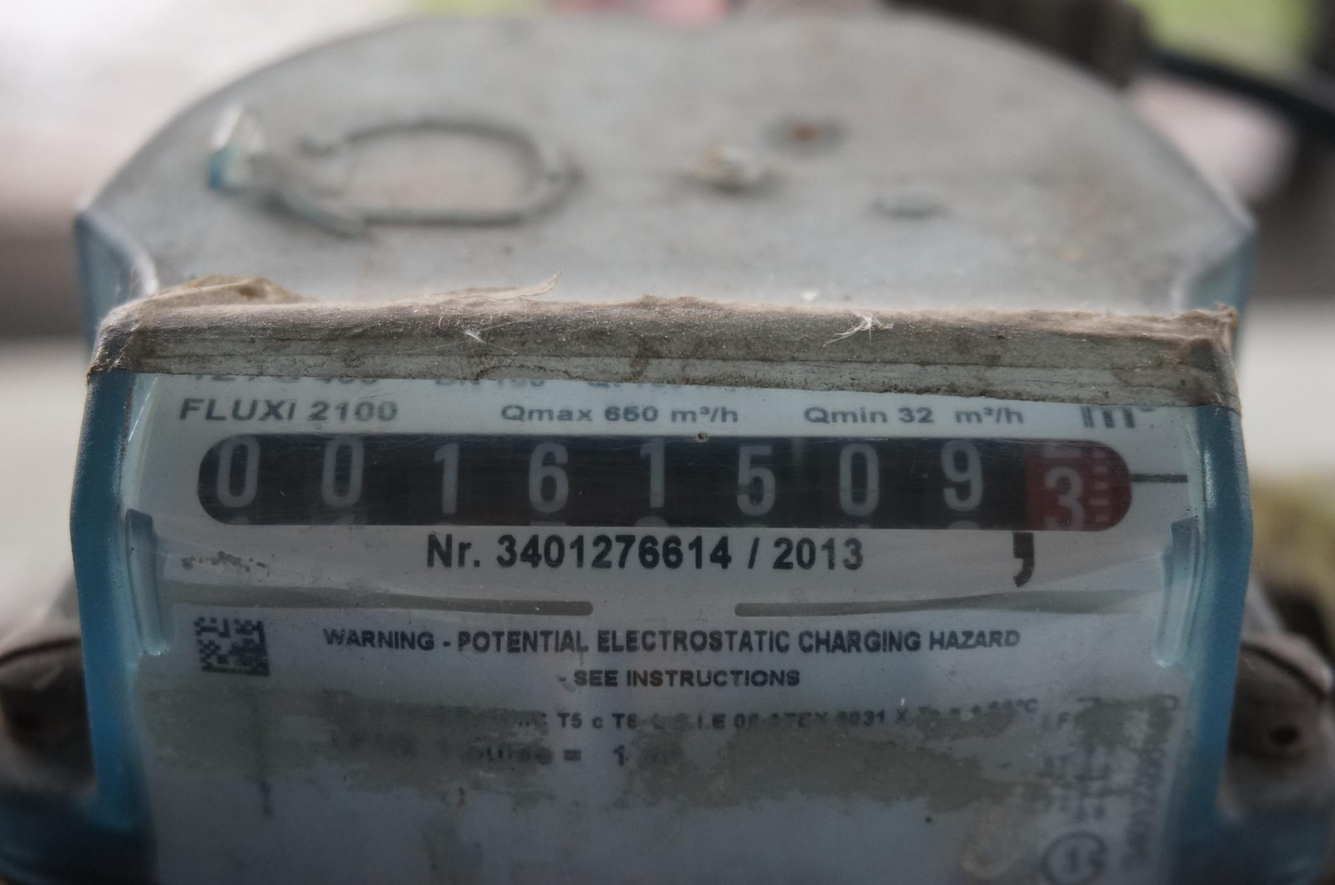analog_dial: (187, 422, 1193, 546)
